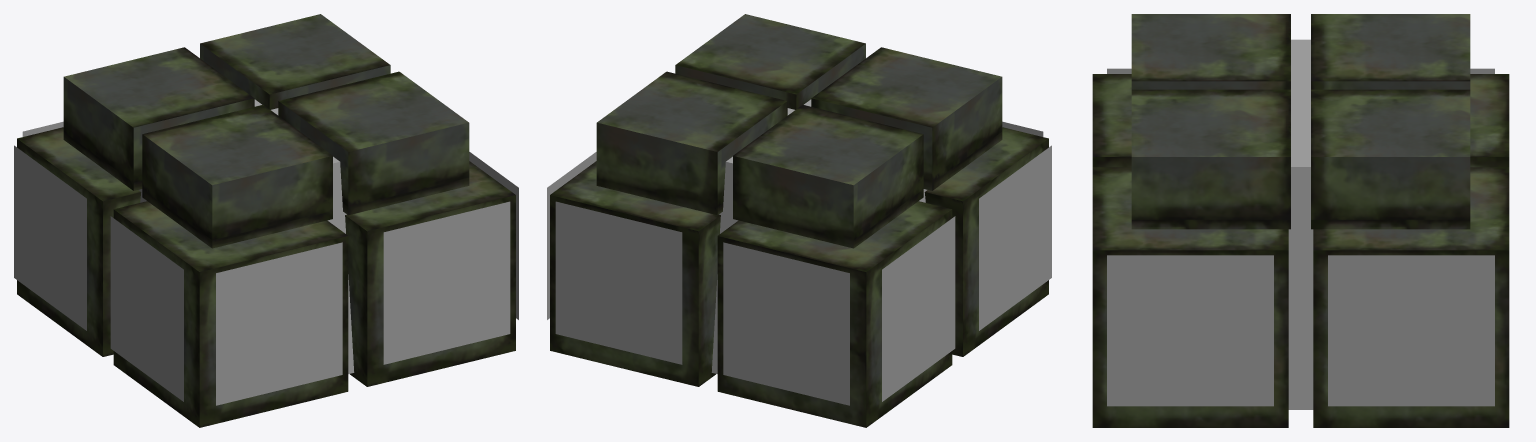
Rendered from snake-head.fbx.
The picture shows the model from 3 angles, left to right: view 1: azimuth 30°, elevation 25°; view 2: azimuth 150°, elevation 25°; view 3: azimuth 270°, elevation 25°; orthographic projection. The views are drawn at different scales.
Visible parts, largest first — view 1: snake_head; view 2: snake_head; view 3: snake_head.
Boxes of the visible parts, <box> form: snake_head: <box>14,14,518,427</box>; snake_head: <box>547,14,1051,427</box>; snake_head: <box>1092,14,1509,427</box>.
Size of the model in its own units: 400 by 254 by 400.
